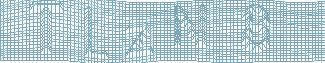8: (240, 4, 270, 54)
L: (82, 6, 110, 60)
N: (171, 4, 208, 50)
T: (28, 1, 66, 54)
z: (123, 22, 156, 59)
